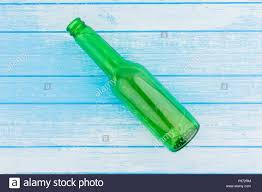beer: (65, 17, 201, 154)
